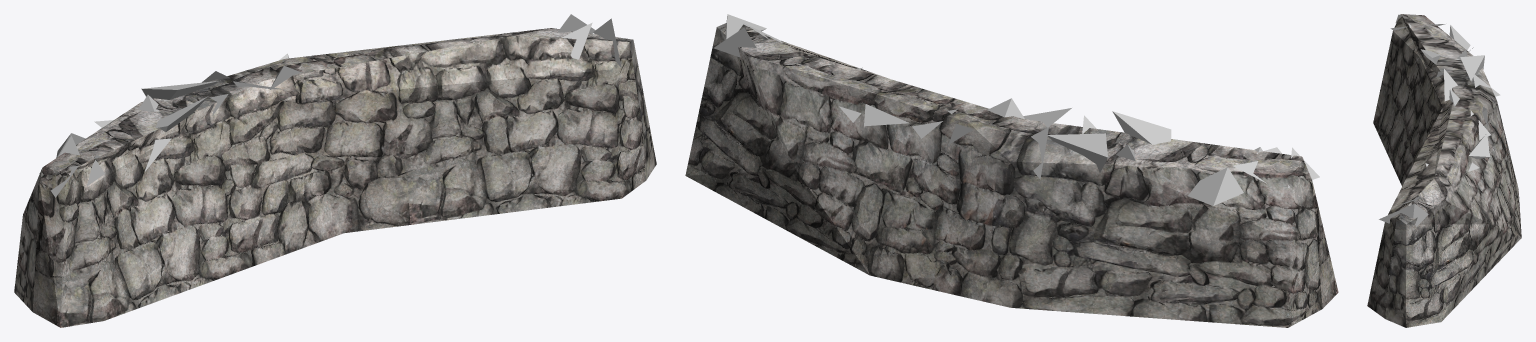
File: Wall_2_LOD4.fbx
3 renders of one model, left to right at view 1: azimuth 30°, elevation 25°; view 2: azimuth 150°, elevation 25°; view 3: azimuth 270°, elevation 25°, orthographic. The views are drawn at different scales.
Parts seen in each view (by area): view 1: Wall, Rock; view 2: Wall, Rock; view 3: Wall, Rock.
Part boxes in pixels (box(x1,y1,x2,y2)): Wall: box(14, 28, 656, 327); Rock: box(39, 14, 621, 197); Wall: box(685, 23, 1338, 327); Rock: box(713, 14, 1319, 205); Wall: box(1367, 14, 1521, 327); Rock: box(1379, 14, 1500, 226).
Bounding box in the file's own units: 817 × 241 × 203.
